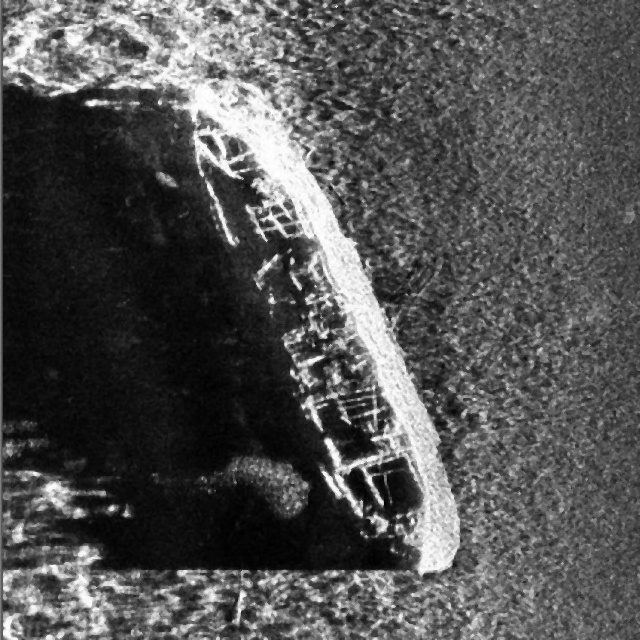Ship: (169, 77, 466, 586)
